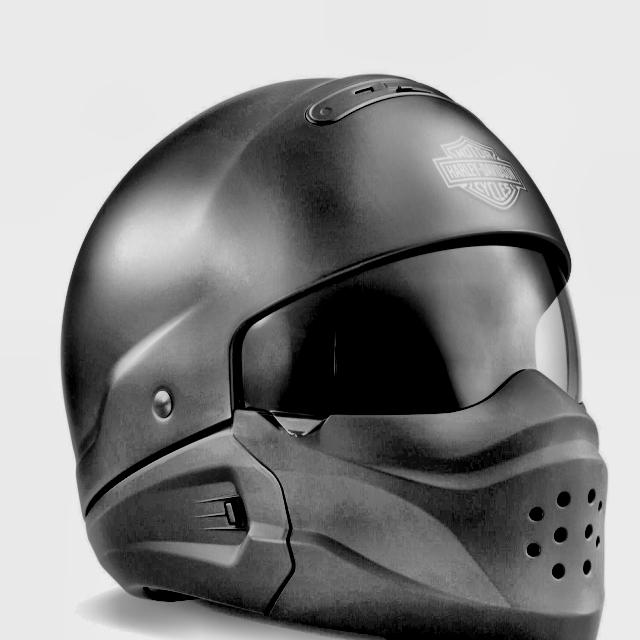Helmet: (52, 73, 640, 640)
